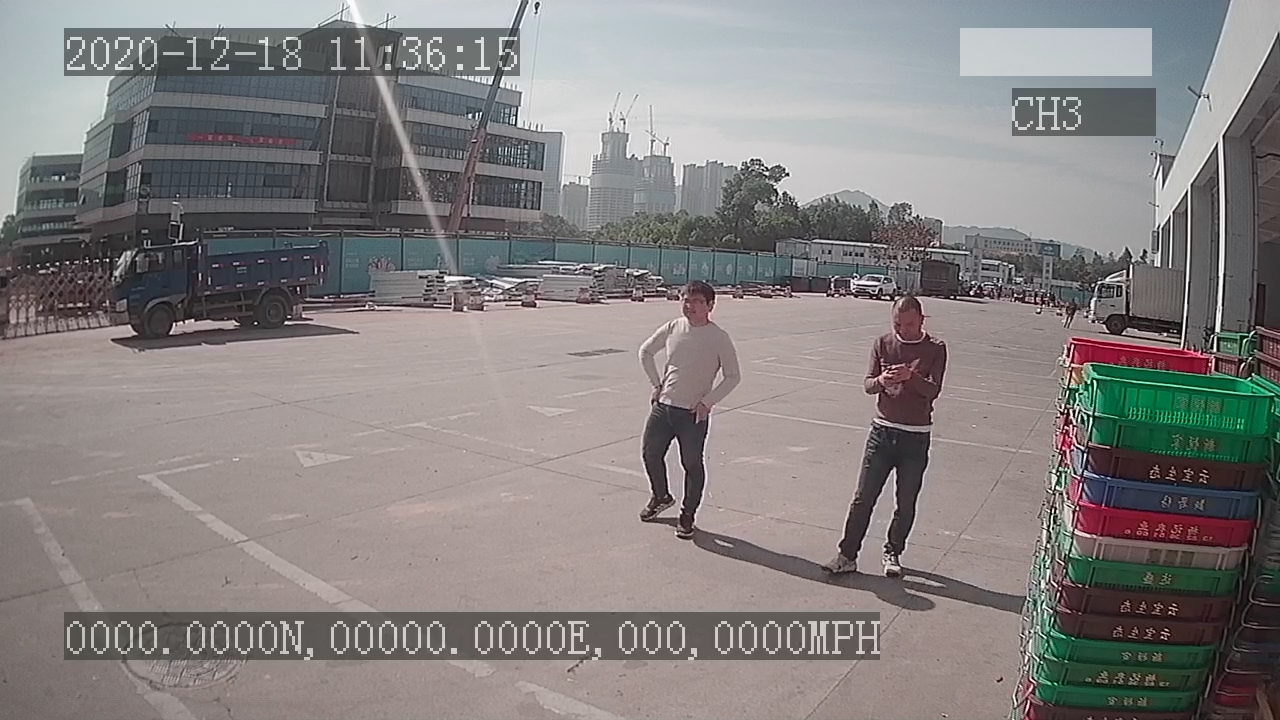person: (822, 292, 958, 578), (632, 279, 740, 540)
